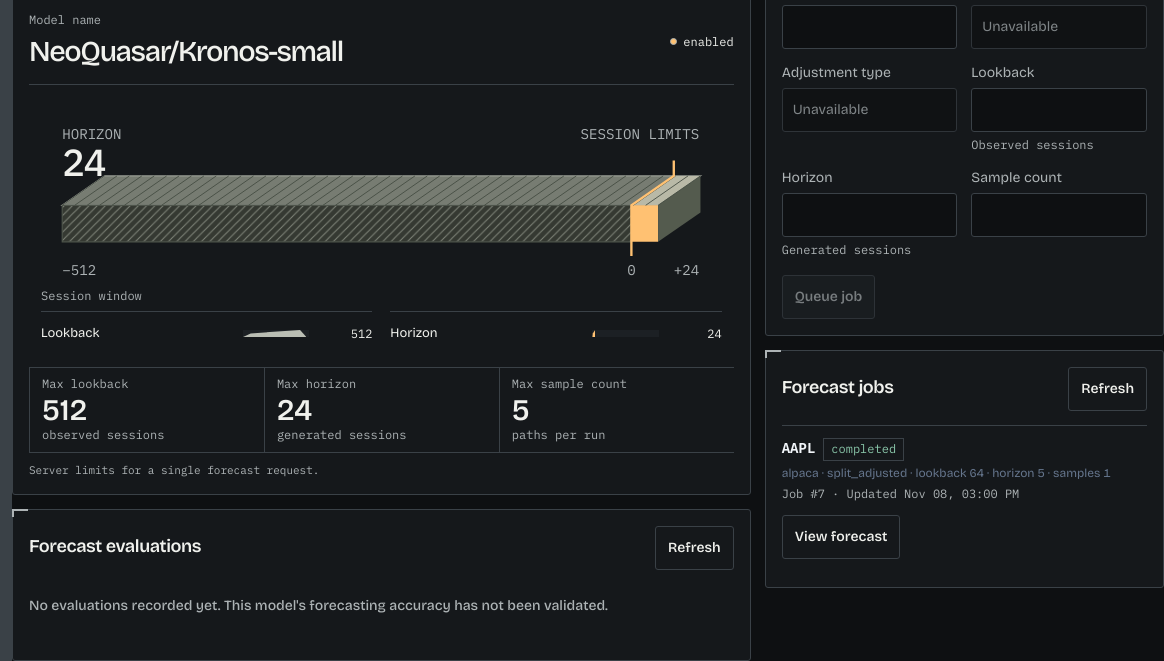
Test: Forecast lab › test_view_forecast_renders_the_chart_once_history_and_result_both_load
The image size is (1164, 661).
(page scrolled)
Click the button "View forecast" at (841, 537), box [782,515,900,559]
(page scrolled)
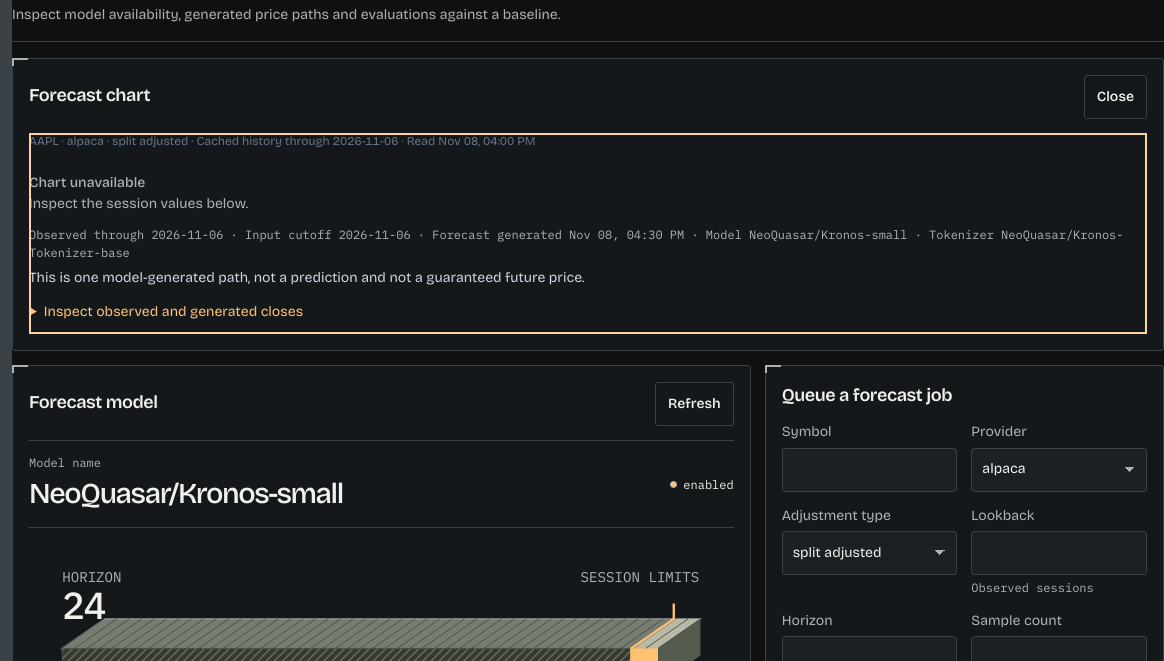
Check: the text "Observed through 2026-11-06" is shown, box [29,227,245,242]
Check: the text "Tokenizer NeoQuasar/Kronos-Tokenizer-base" is shown, box [29,226,1147,262]
Check: the text "This is one model-generated path, not a prediction and not a guaranteed future price." is shown, box [29,269,585,286]
